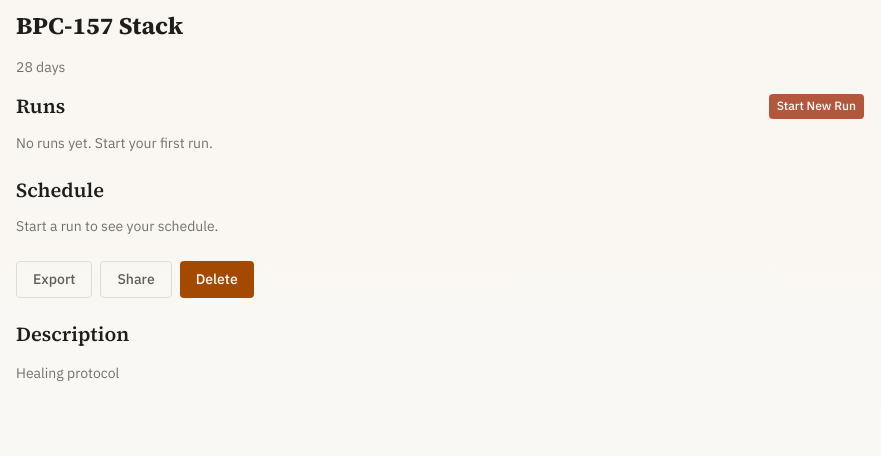
Test case: ProtocolView with runs › builds the share link from the response's `token` field
Click the button "Share" at (136, 279), box x1=100 y1=261 x2=172 y2=298
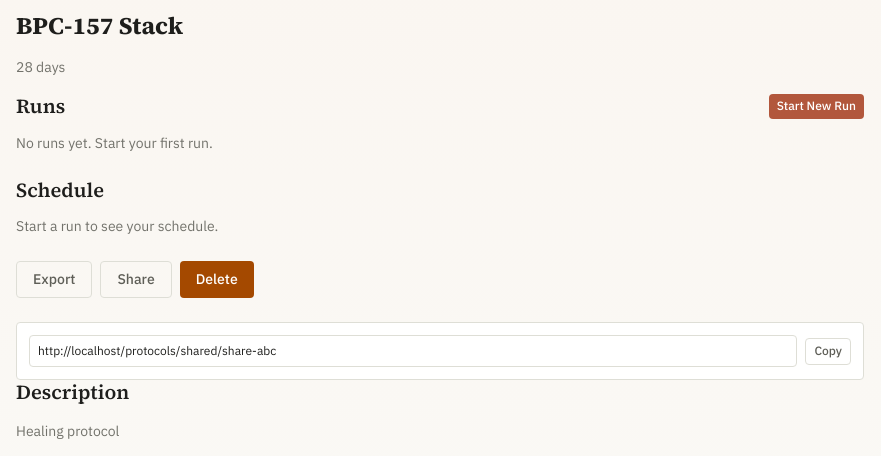
Expected: the field showing "/protocols/shared/share-abc" is shown, x1=29 y1=335 x2=797 y2=367
